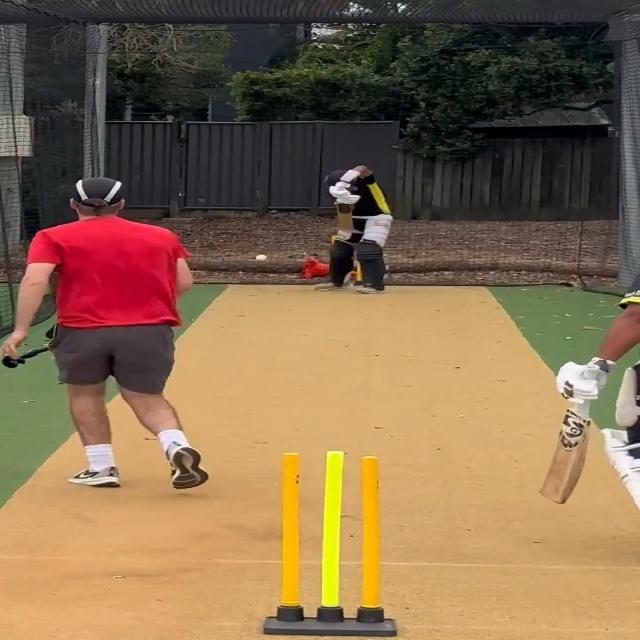ball: (253, 252, 269, 262)
stump: (261, 448, 400, 639)
